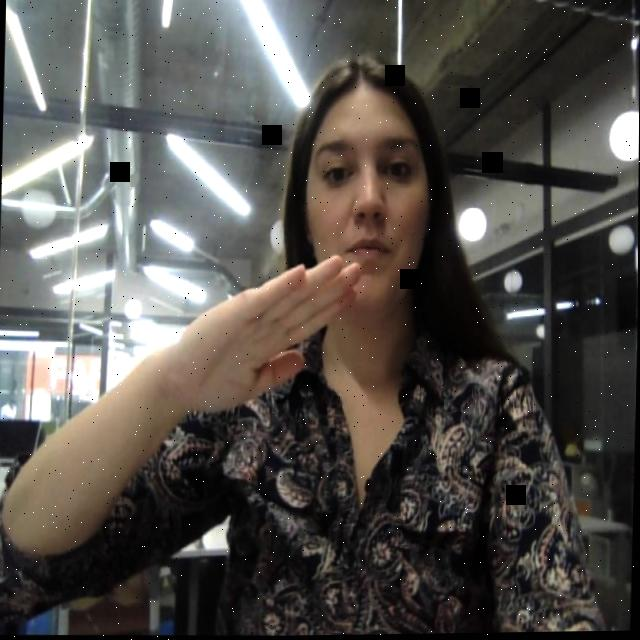Paper: (174, 242, 362, 422)
